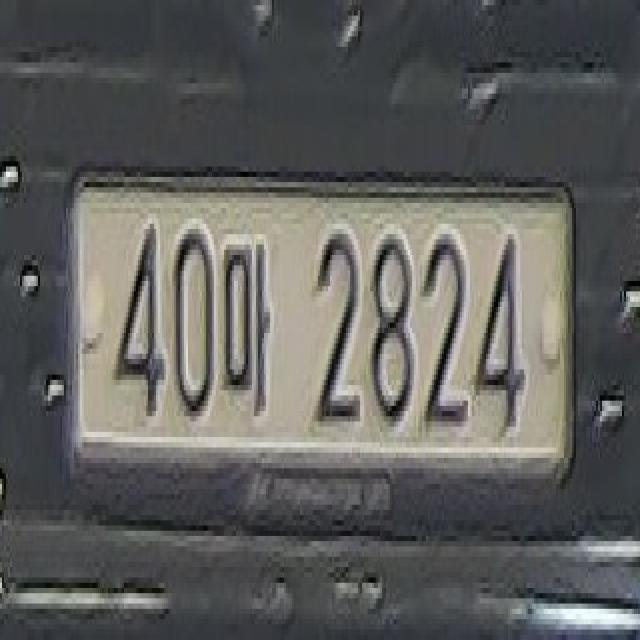0: (170, 214, 216, 416)
2: (312, 224, 362, 432), (420, 229, 470, 432)
4: (110, 208, 166, 422), (474, 229, 528, 437)
8: (370, 229, 416, 432)
license_plate: (66, 156, 574, 484)
ma: (218, 234, 272, 422)
